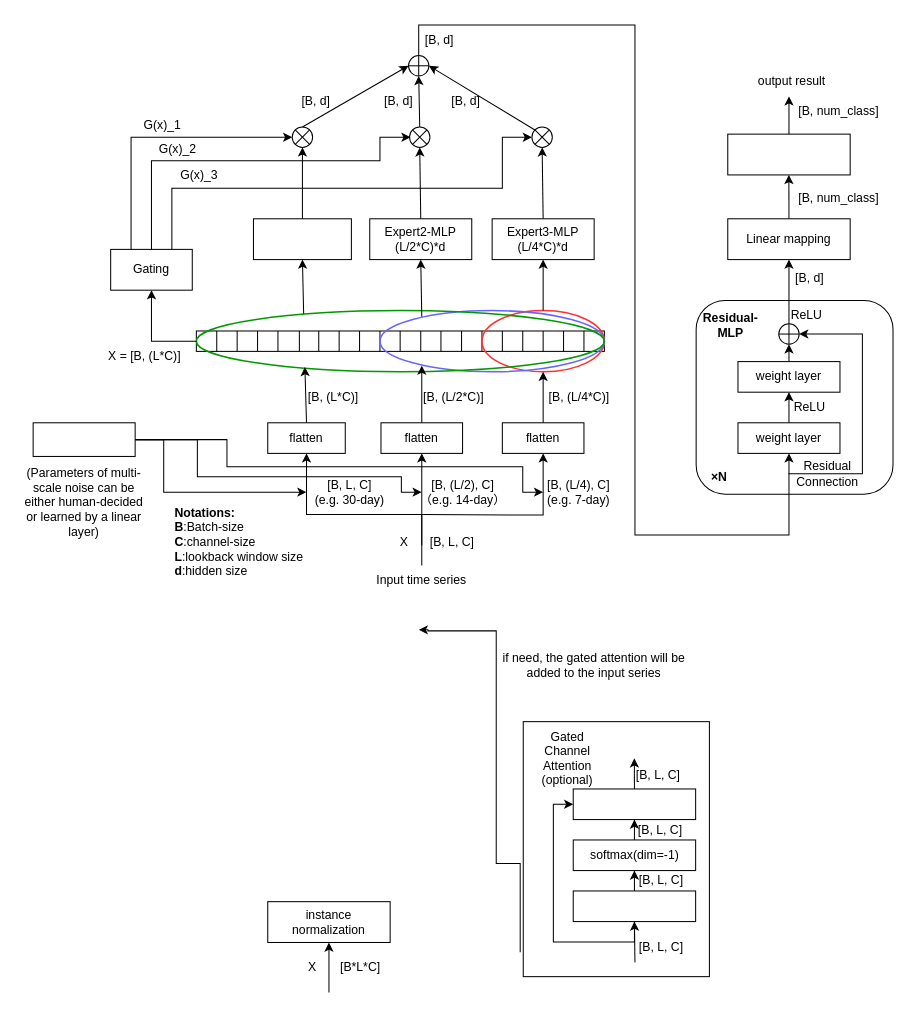
Some shapes in this 911 by 1019 pixel diagram are drawn without their labels. The shapes that lost their labels are listed below. From the top down, each one's centre as x and y in pixels, then its label:
At (788,154): "softmax".
At (301,239): "Expert1-MLP (L*C)*d".
At (83,439): "+ multi-scale adversarial noise".
At (634,804): "dot product".
At (634,906): "Linear - [C*C]".
